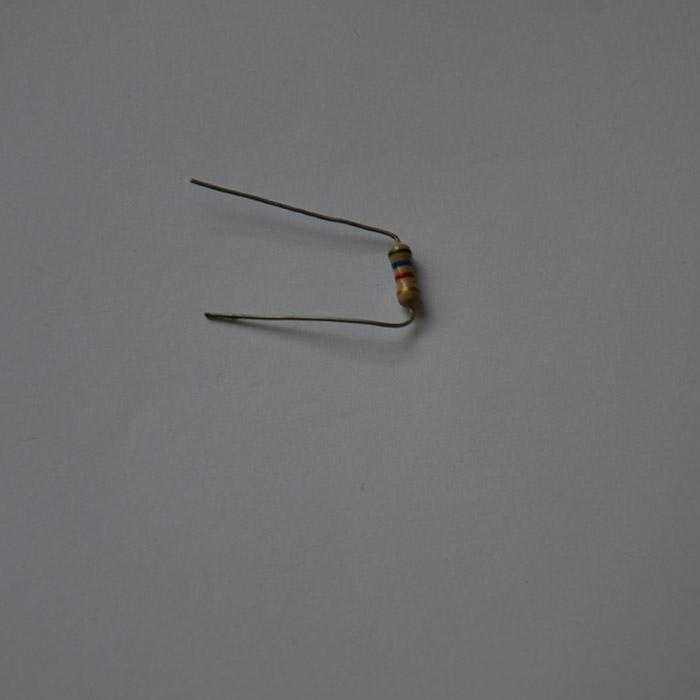resistor: (387, 241, 418, 305)
